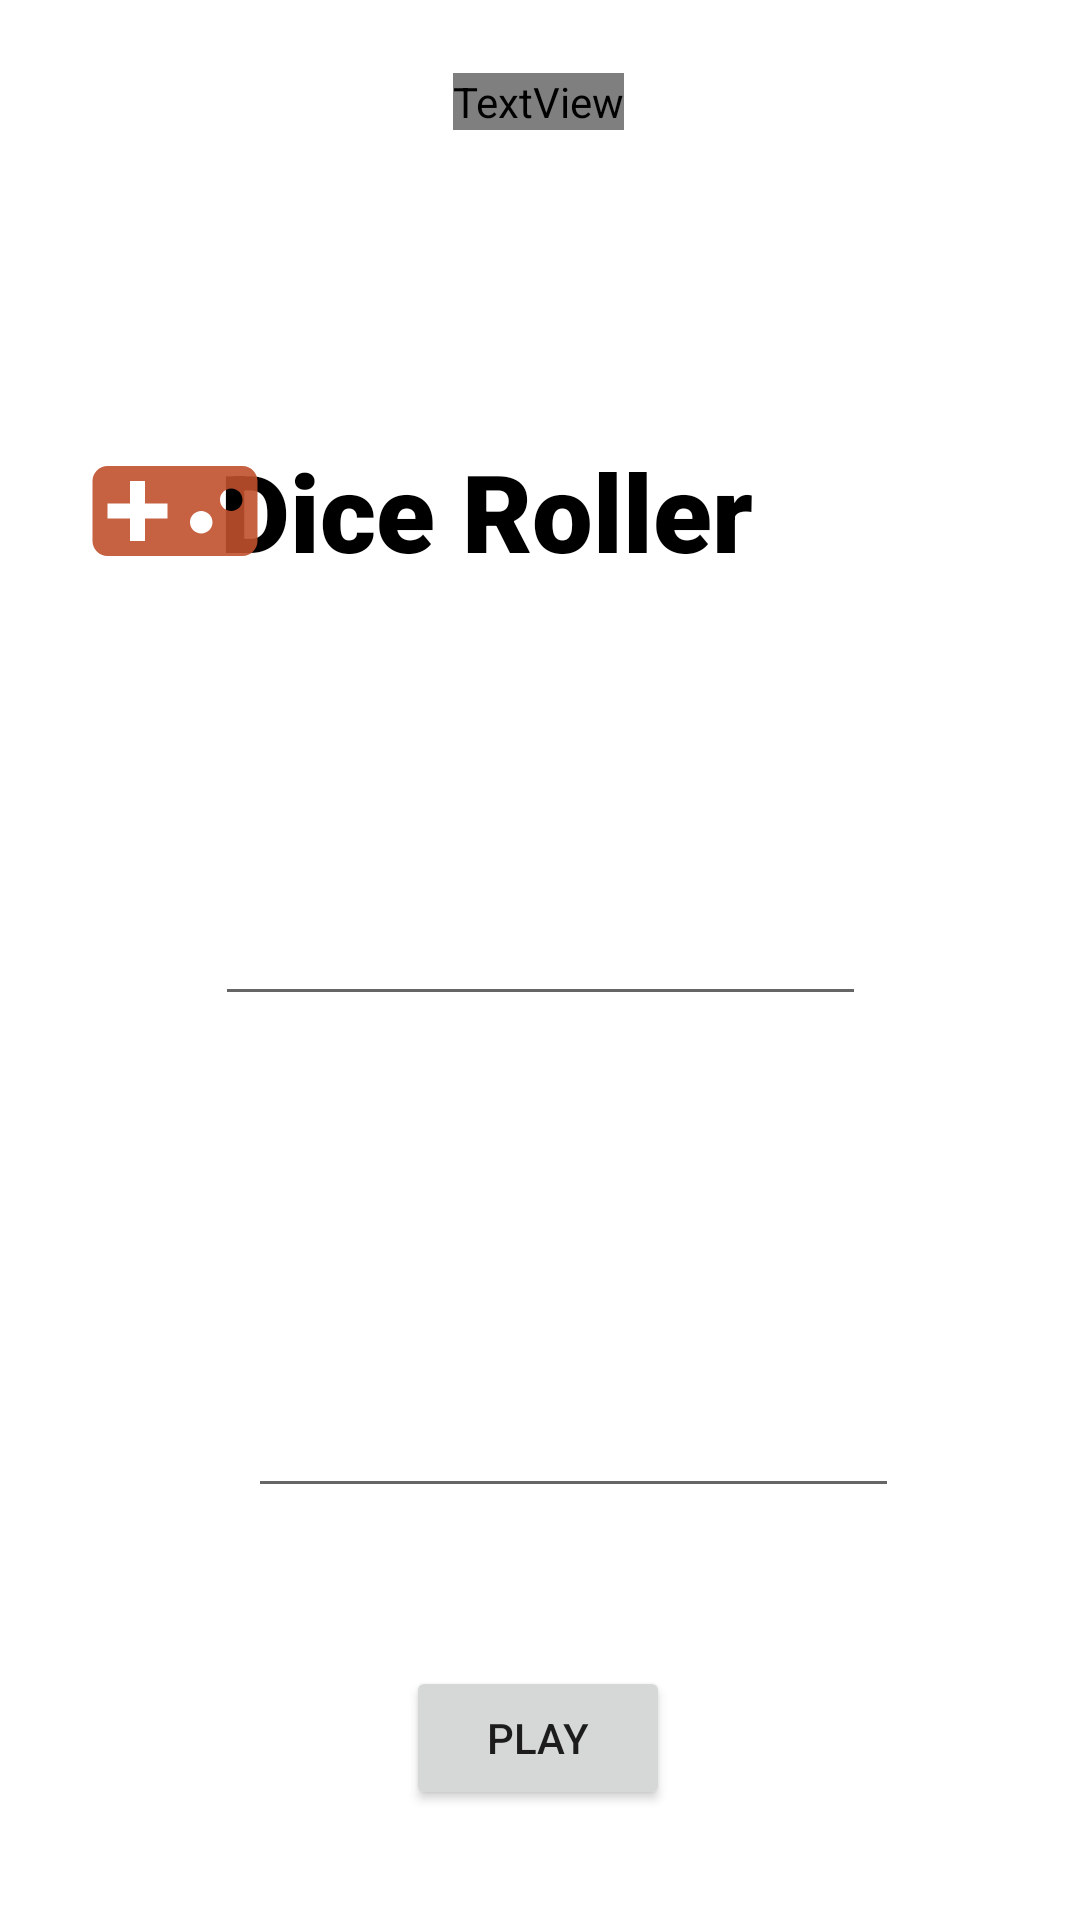

Where to tap for icons on this 1080px×1920px app screen, as (x=x, y=y):
videogame: (x=178, y=511)
